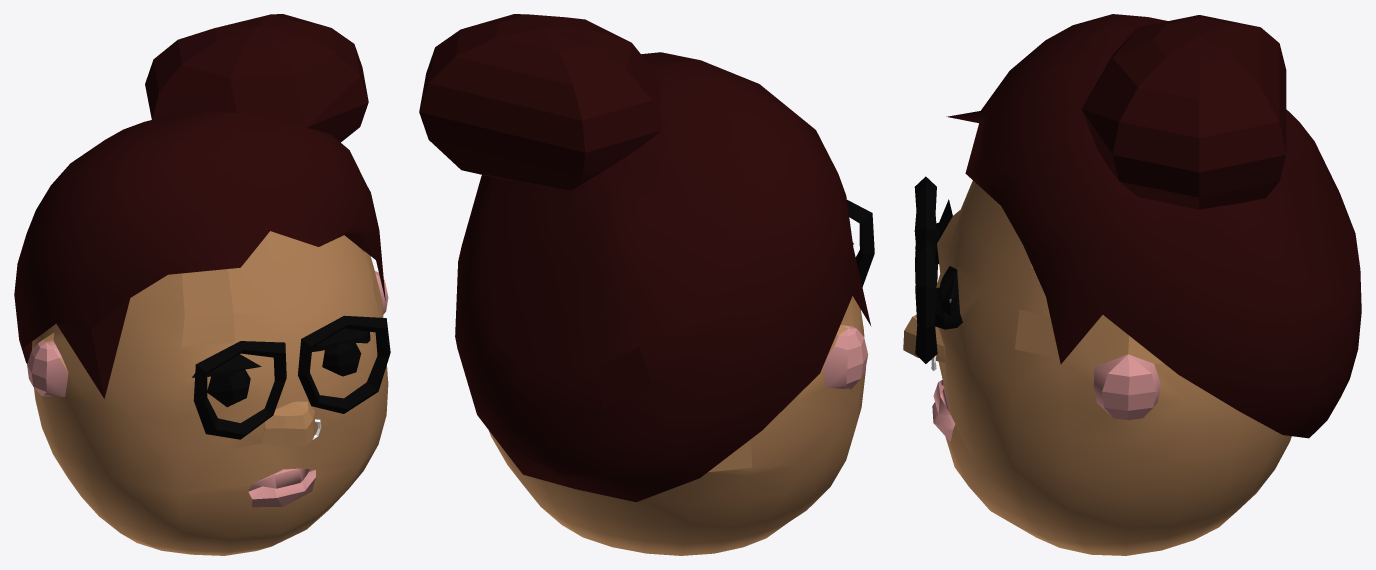
File: VidhiHead.fbx
The picture shows the model from 3 angles, left to right: view 1: azimuth 30°, elevation 25°; view 2: azimuth 150°, elevation 25°; view 3: azimuth 270°, elevation 25°; orthographic projection. The views are drawn at different scales.
Parts seen in each view (by area): view 1: Vidhi1; view 2: Vidhi1; view 3: Vidhi1.
Boxes of the visible parts, <box> form: Vidhi1: <box>14,14,390,555</box>; Vidhi1: <box>419,14,874,555</box>; Vidhi1: <box>903,14,1361,555</box>.
Size of the model in its own units: 1.79 by 2.11 by 1.68.
